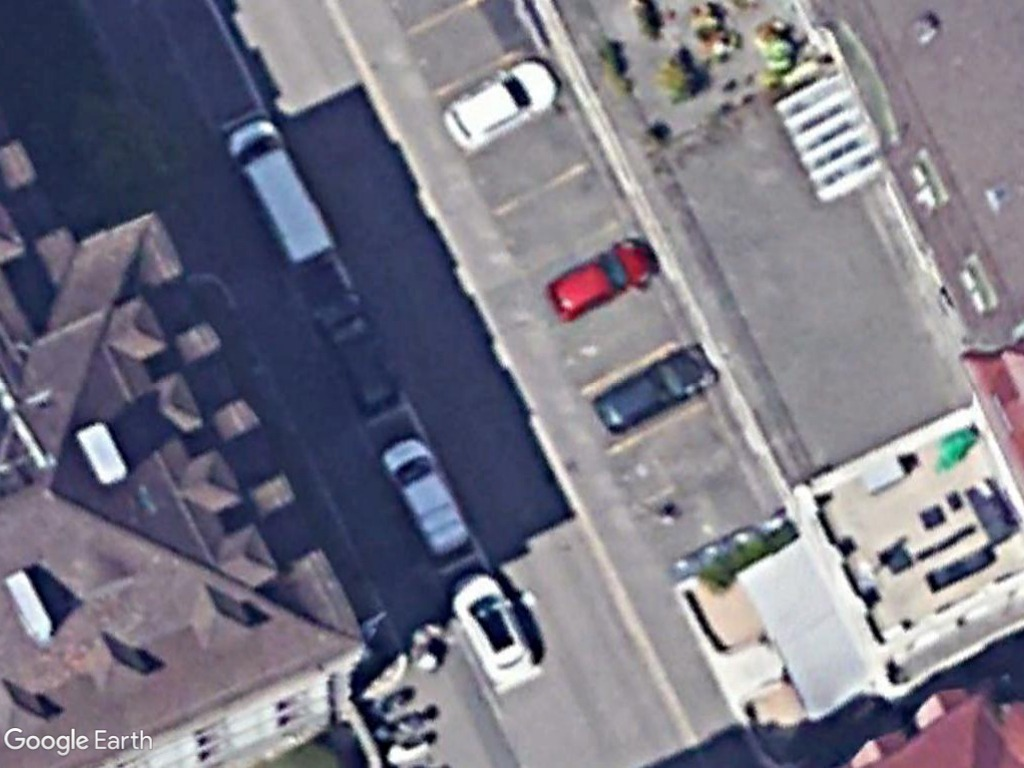car: (589, 342, 716, 437), (449, 568, 541, 696), (440, 60, 562, 156), (546, 240, 654, 323)
van: (224, 116, 340, 270), (377, 433, 475, 564)
